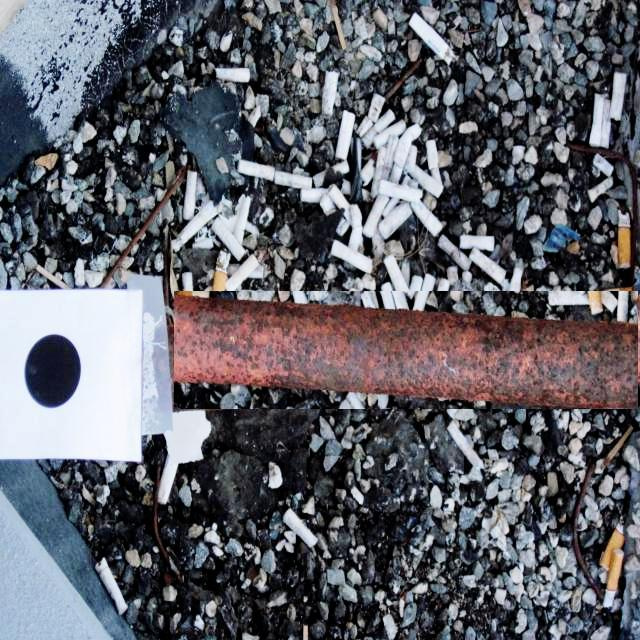Corrosion: (174, 296, 639, 408)
